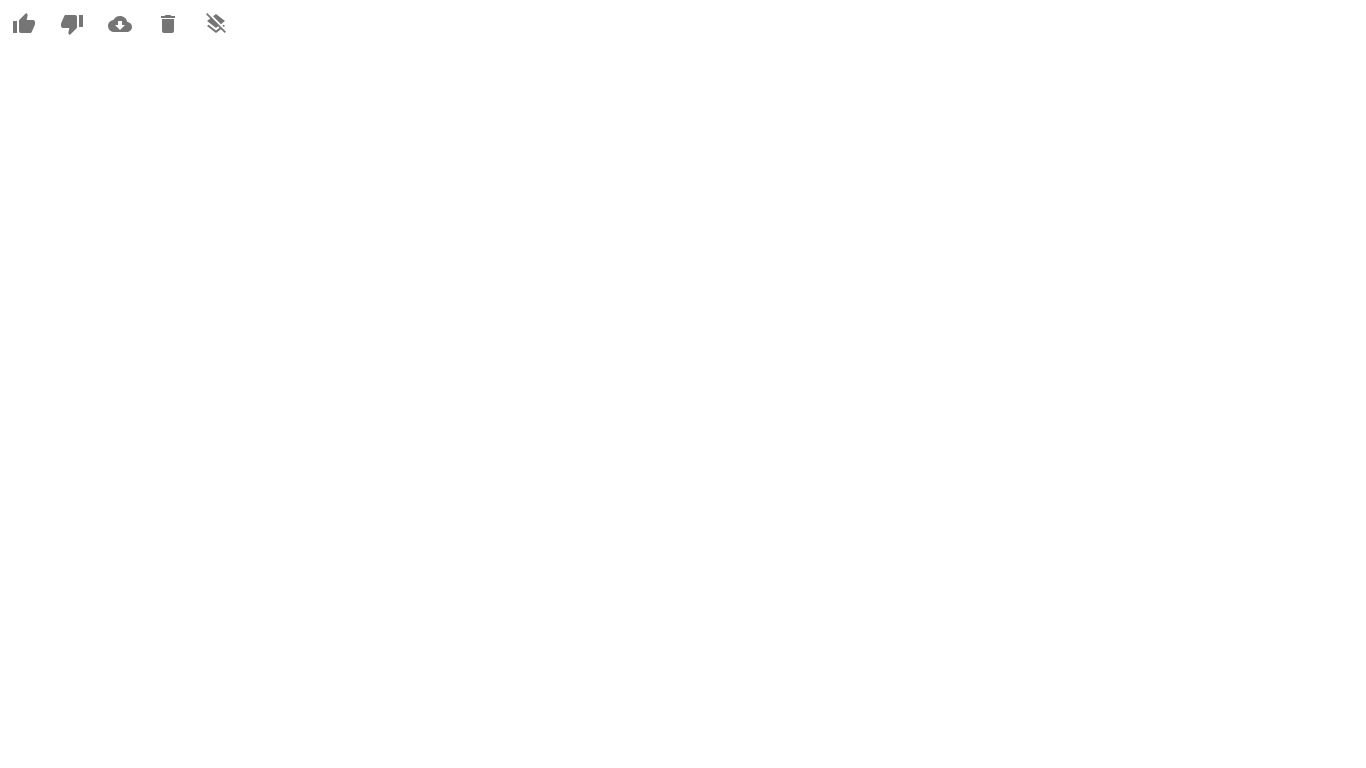
Scenario: BulkOperation › approve › asks without the settled note when every selected run is eligible
The width and height of the screenshot is (1366, 768).
Click the 1st button: (24, 24) x1=0 y1=0 x2=48 y2=48
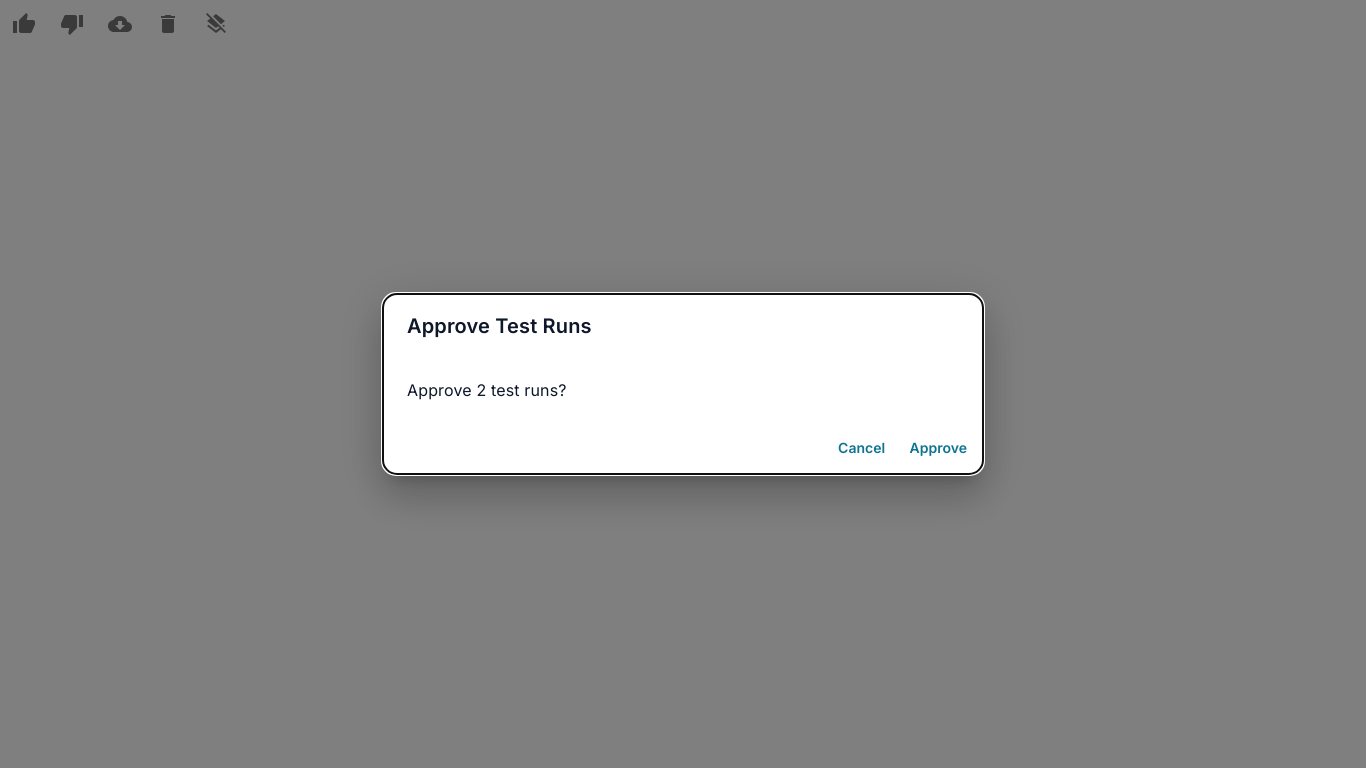
expect the text "Approve 2 test runs?" is shown: met, box x1=407 y1=380 x2=567 y2=400
